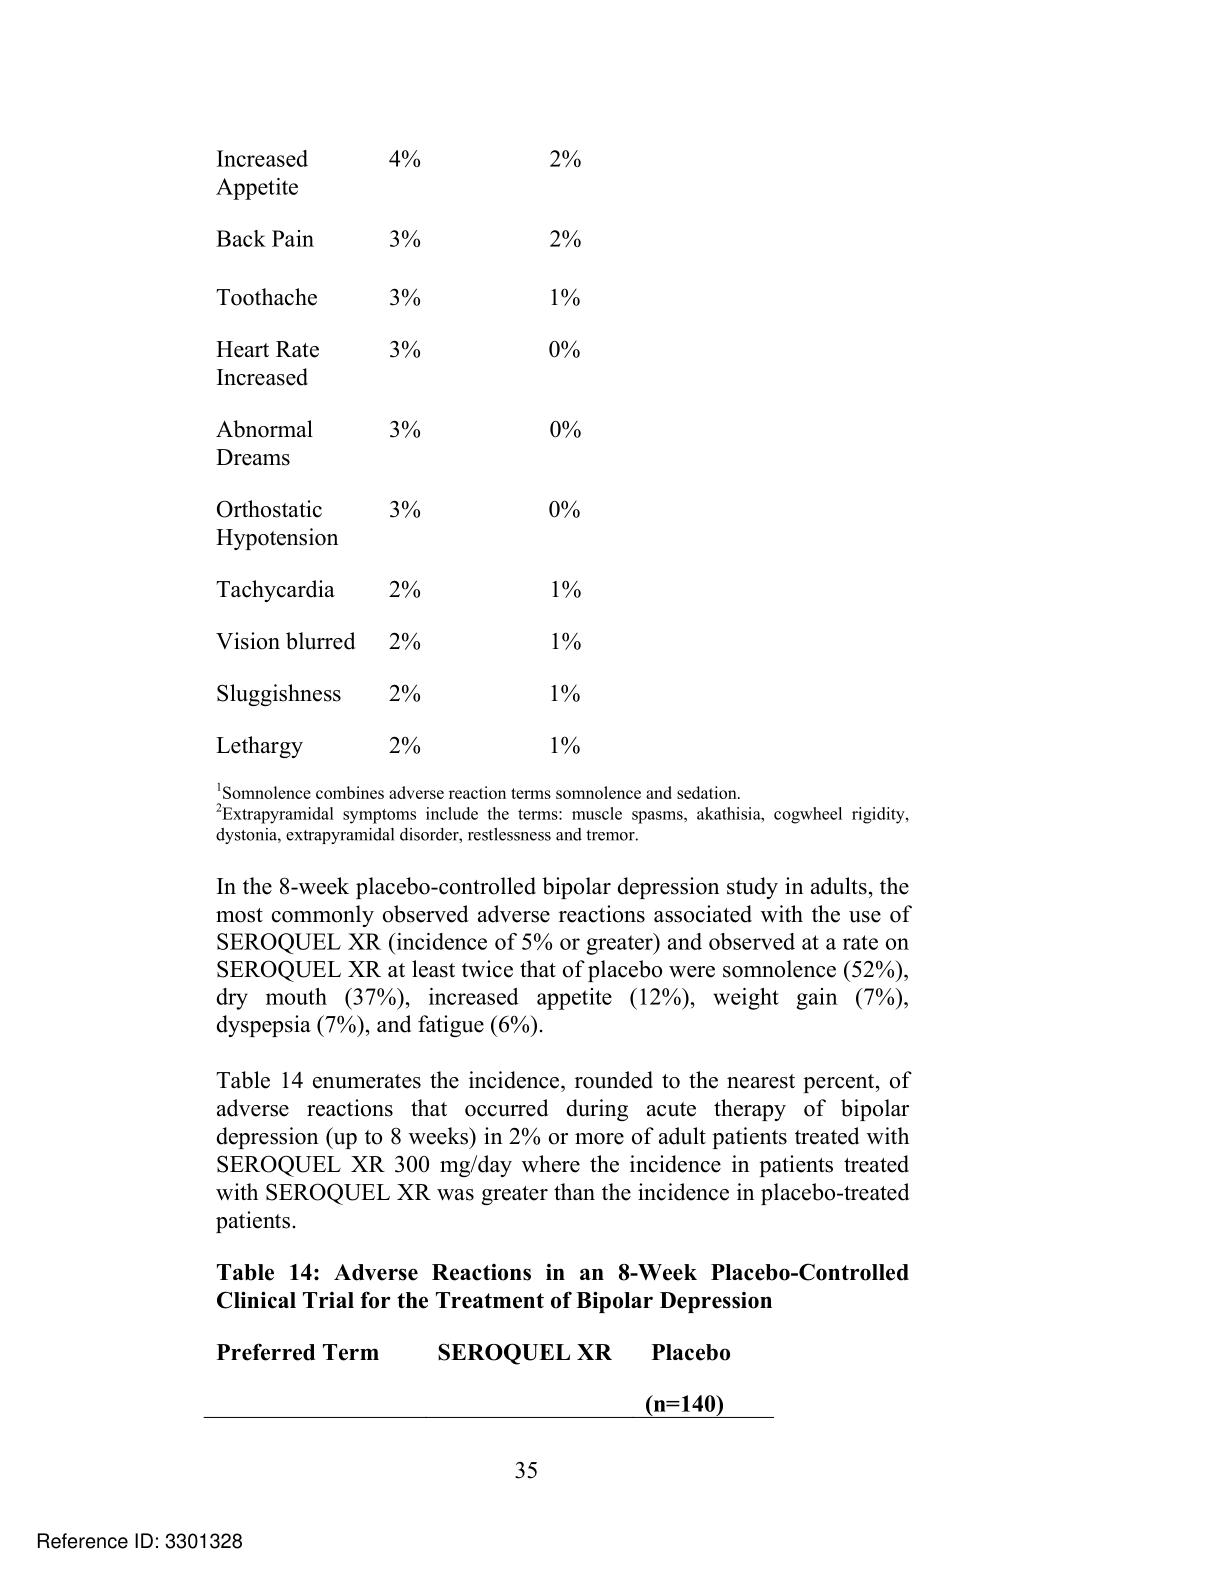nolines: (210, 144, 582, 760)
